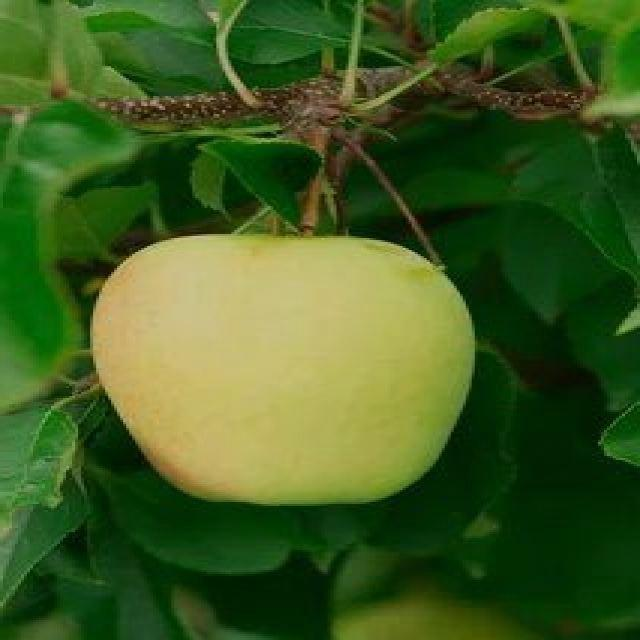green apple: (85, 230, 482, 507)
